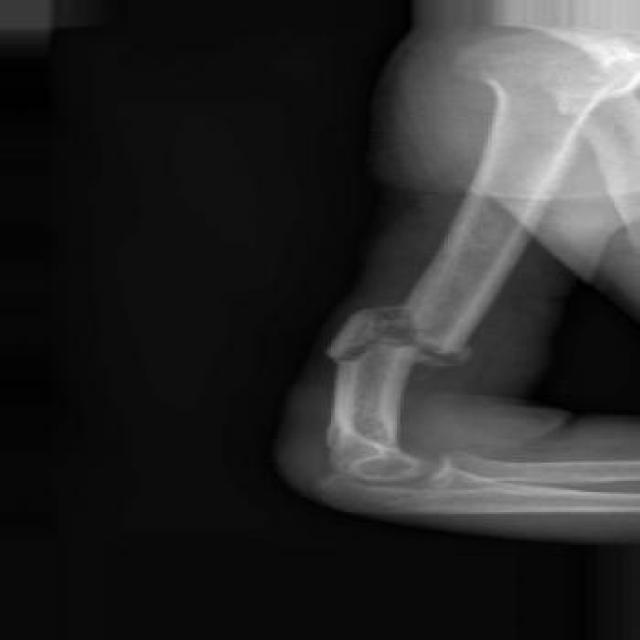Fracture: (316, 294, 494, 372)
